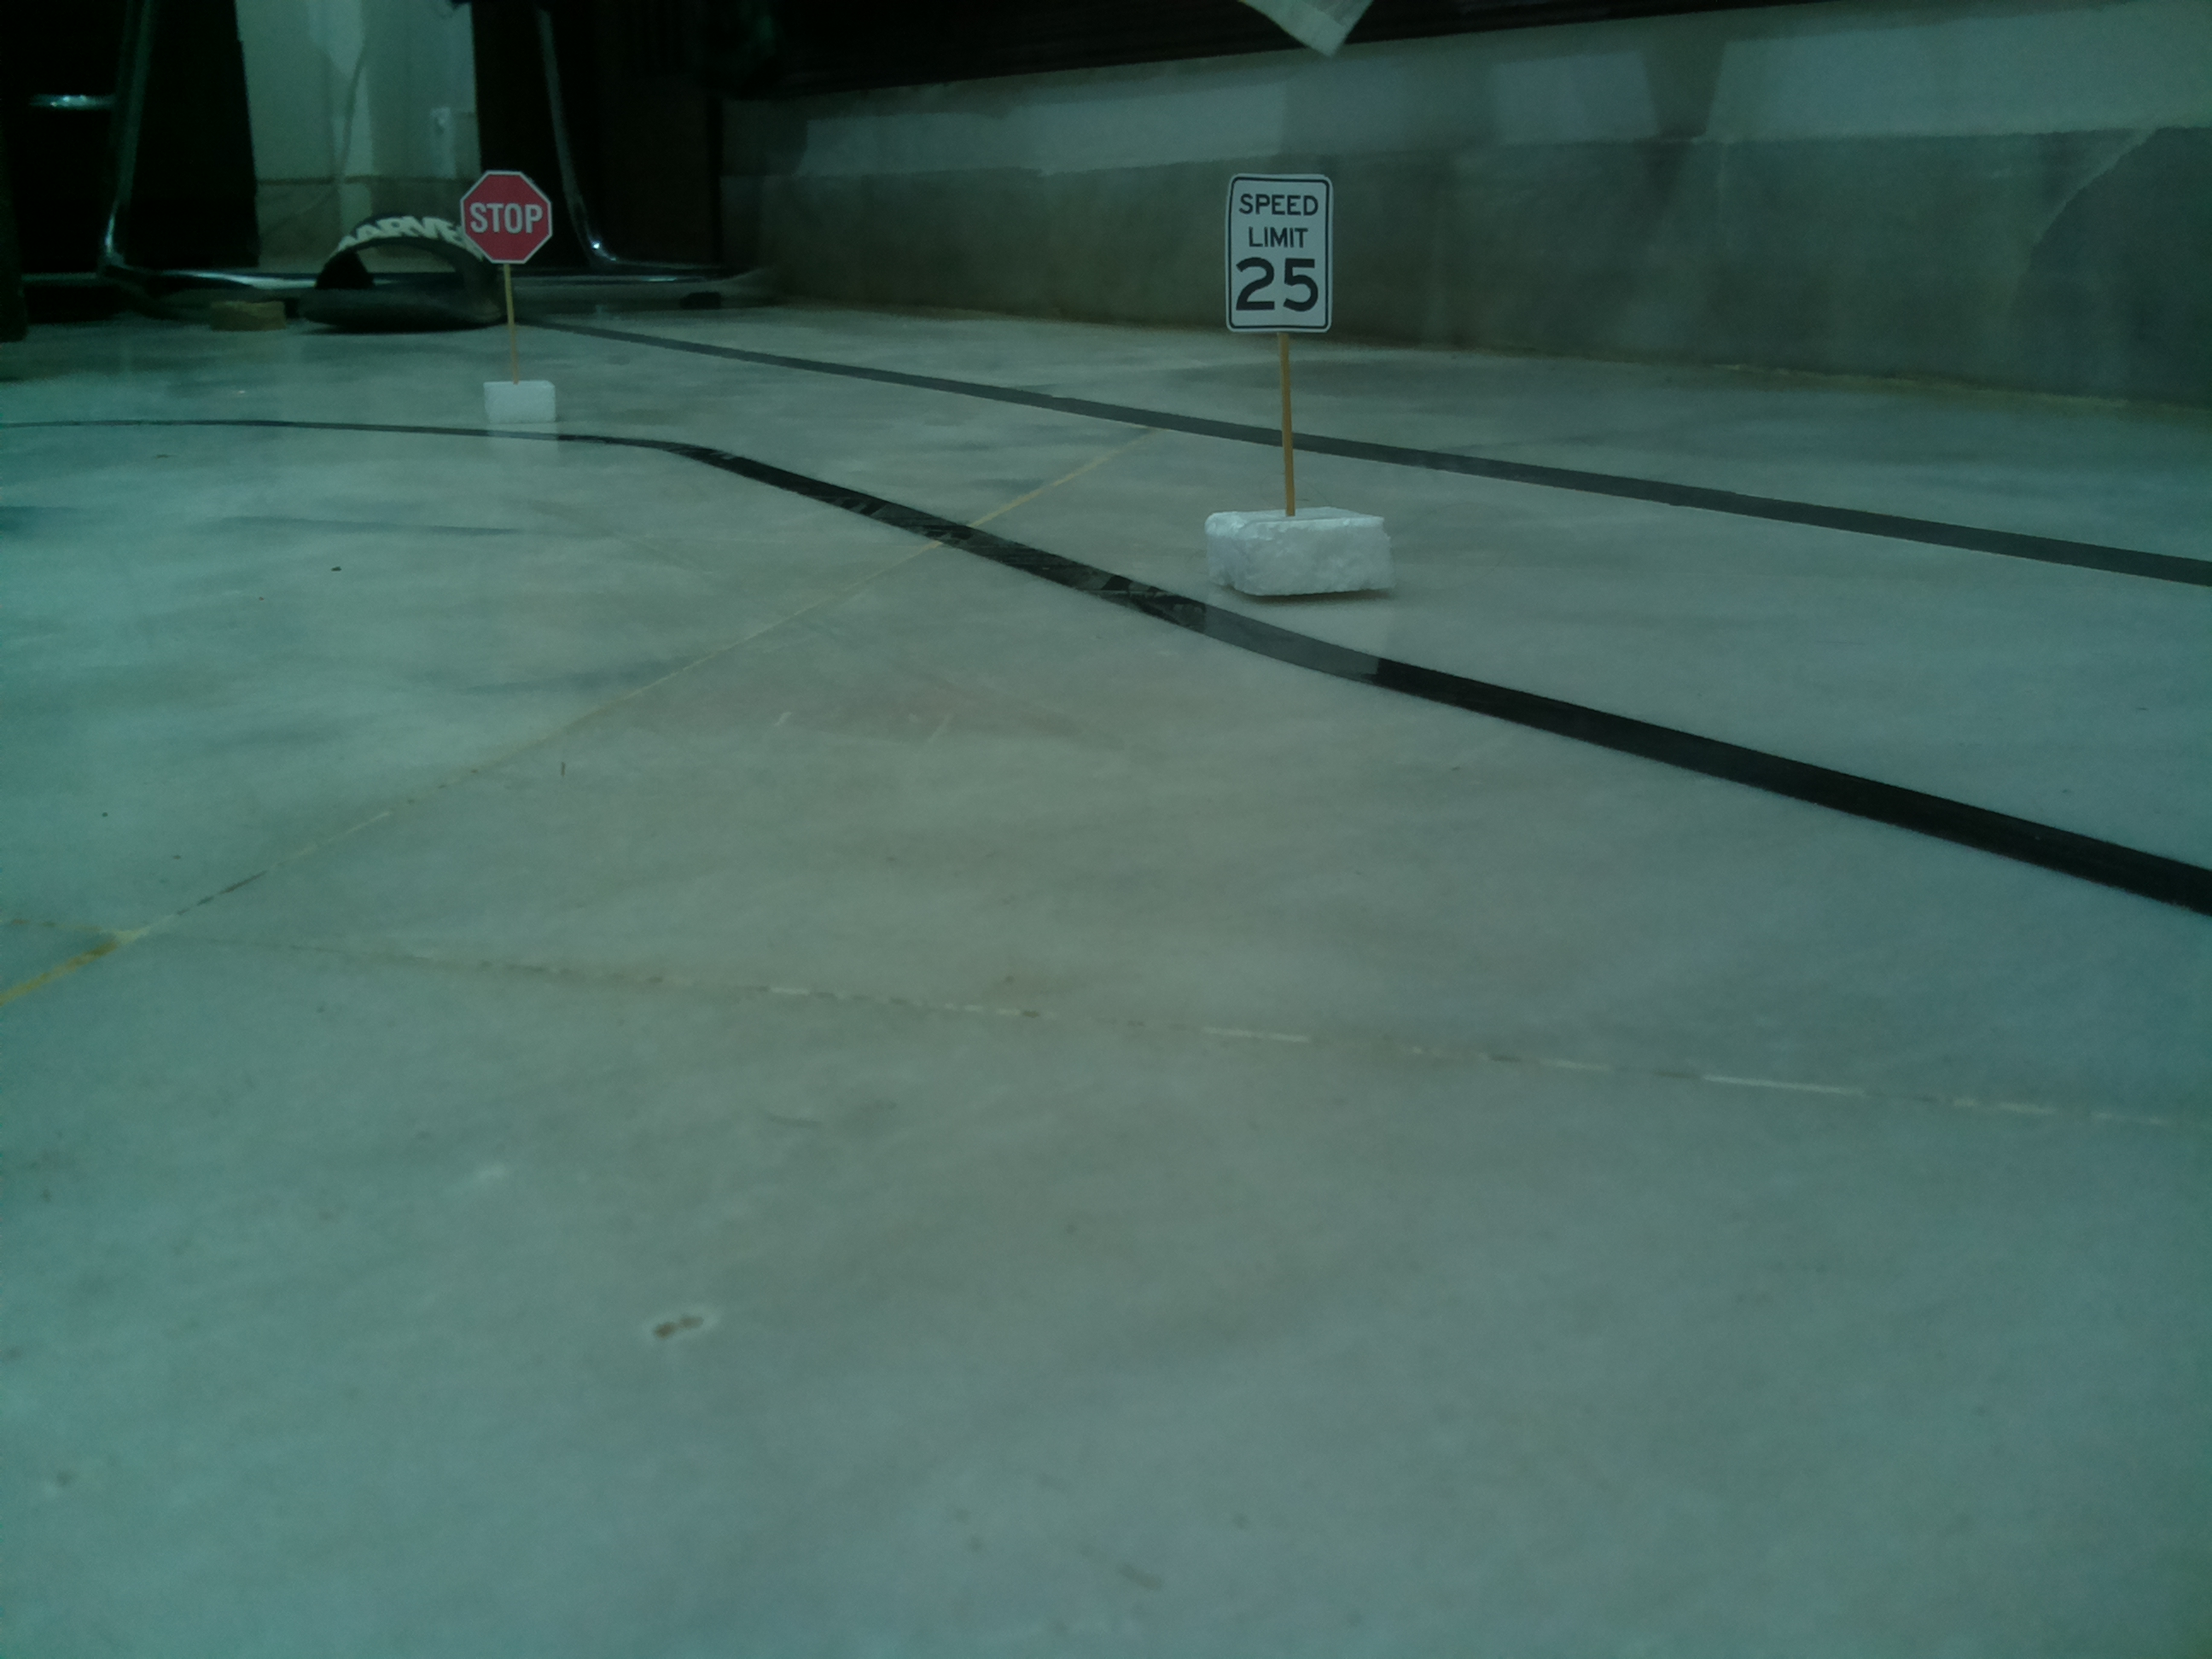Speed limit 25: (1224, 173, 1343, 347)
Stop sign: (455, 167, 561, 270)
